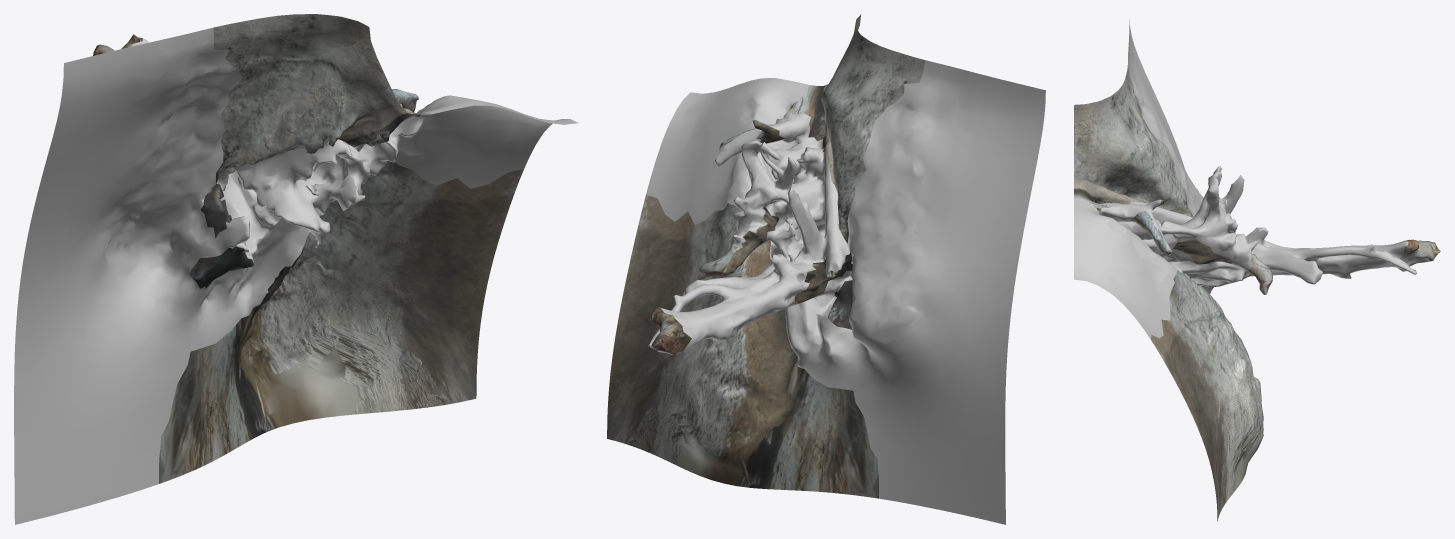
The model's file is tree_lowpoly_noholes_textured.fbx.
3 renders of one model, left to right at view 1: azimuth 30°, elevation 25°; view 2: azimuth 150°, elevation 25°; view 3: azimuth 270°, elevation 25°, orthographic. The views are drawn at different scales.
Visible parts, largest first — view 1: Model; view 2: Model; view 3: Model.
Boxes of the visible parts, x1,y1,x2,y2 form: Model: (14,14,578,524); Model: (607,14,1045,524); Model: (1074,20,1440,521).
Bounding box in the file's own units: 12.48 × 11.91 × 12.48.
